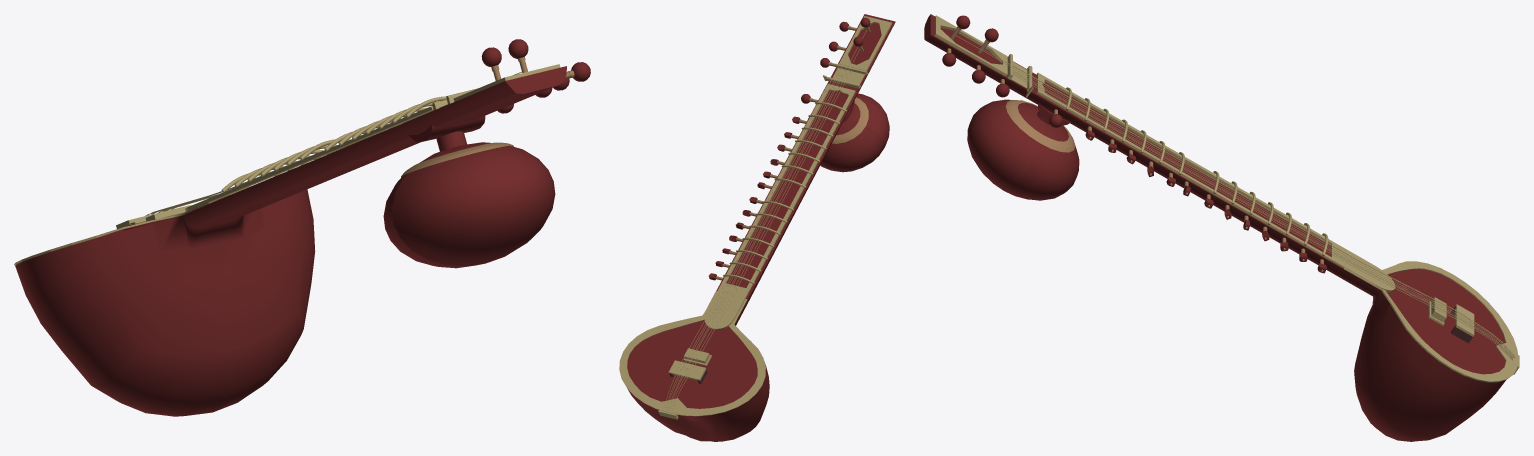
File: sitar.fbx
3 renders of one model, left to right at view 1: azimuth 30°, elevation 25°; view 2: azimuth 150°, elevation 25°; view 3: azimuth 270°, elevation 25°, orthographic. The views are drawn at different scales.
Visible parts, largest first — view 1: polySurface667, polySurface544, polySurface553, polySurface543, polySurface593; view 2: polySurface667, polySurface553, polySurface544, polySurface578, polySurface593, polySurface589, polySurface547, polySurface545, polySurface548, polySurface549, polySurface579, polySurface591 (+3 smaller); view 3: polySurface667, polySurface544, polySurface553, polySurface578, polySurface593, polySurface547, polySurface548, polySurface596, polySurface592, polySurface549.
Boxes of the visible parts, box(x1,y1,x2,y2) form: polySurface667: box(14, 66, 566, 416); polySurface544: box(383, 142, 555, 268); polySurface553: box(187, 106, 433, 210); polySurface543: box(409, 116, 485, 142); polySurface593: box(401, 142, 513, 177); polySurface667: box(619, 14, 895, 441); polySurface553: box(706, 84, 855, 319); polySurface544: box(808, 93, 889, 172); polySurface578: box(839, 16, 892, 70); polySurface593: box(832, 97, 868, 143); polySurface589: box(668, 360, 706, 380); polySurface547: box(668, 30, 866, 410); polySurface545: box(704, 312, 733, 329); polySurface548: box(670, 49, 859, 410); polySurface549: box(672, 69, 851, 409); polySurface579: box(833, 68, 864, 84); polySurface591: box(667, 67, 842, 407); polySurface667: box(924, 14, 1517, 441); polySurface544: box(967, 99, 1079, 200); polySurface553: box(1036, 72, 1376, 285); polySurface578: box(934, 15, 1007, 76); polySurface593: box(1005, 100, 1075, 152); polySurface547: box(956, 35, 1515, 358); polySurface548: box(983, 49, 1515, 356); polySurface596: box(1013, 74, 1513, 360); polySurface592: box(1013, 70, 1513, 357); polySurface549: box(1013, 65, 1513, 354).
Bounding box in the file's own units: 2.56 × 5.29 × 6.83.
